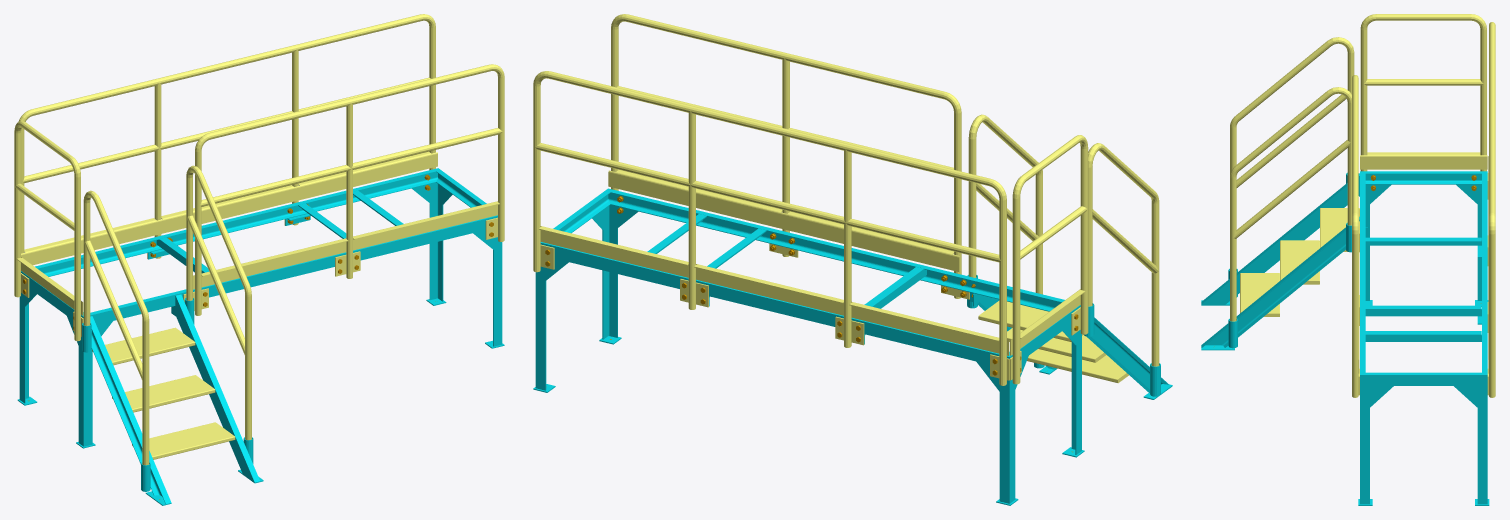
File: SteelStair.fbx
The picture shows the model from 3 angles, left to right: view 1: azimuth 30°, elevation 25°; view 2: azimuth 150°, elevation 25°; view 3: azimuth 270°, elevation 25°; orthographic projection. The views are drawn at different scales.
Parts seen in each view (by area): view 1: Model; view 2: Model; view 3: Model.
Boxes of the visible parts, box(x1,y1,x2,y2) form: Model: box(14, 14, 504, 505); Model: box(533, 14, 1172, 505); Model: box(1201, 14, 1495, 505).
Bounding box in the file's own units: 12126 × 7785 × 7256.
